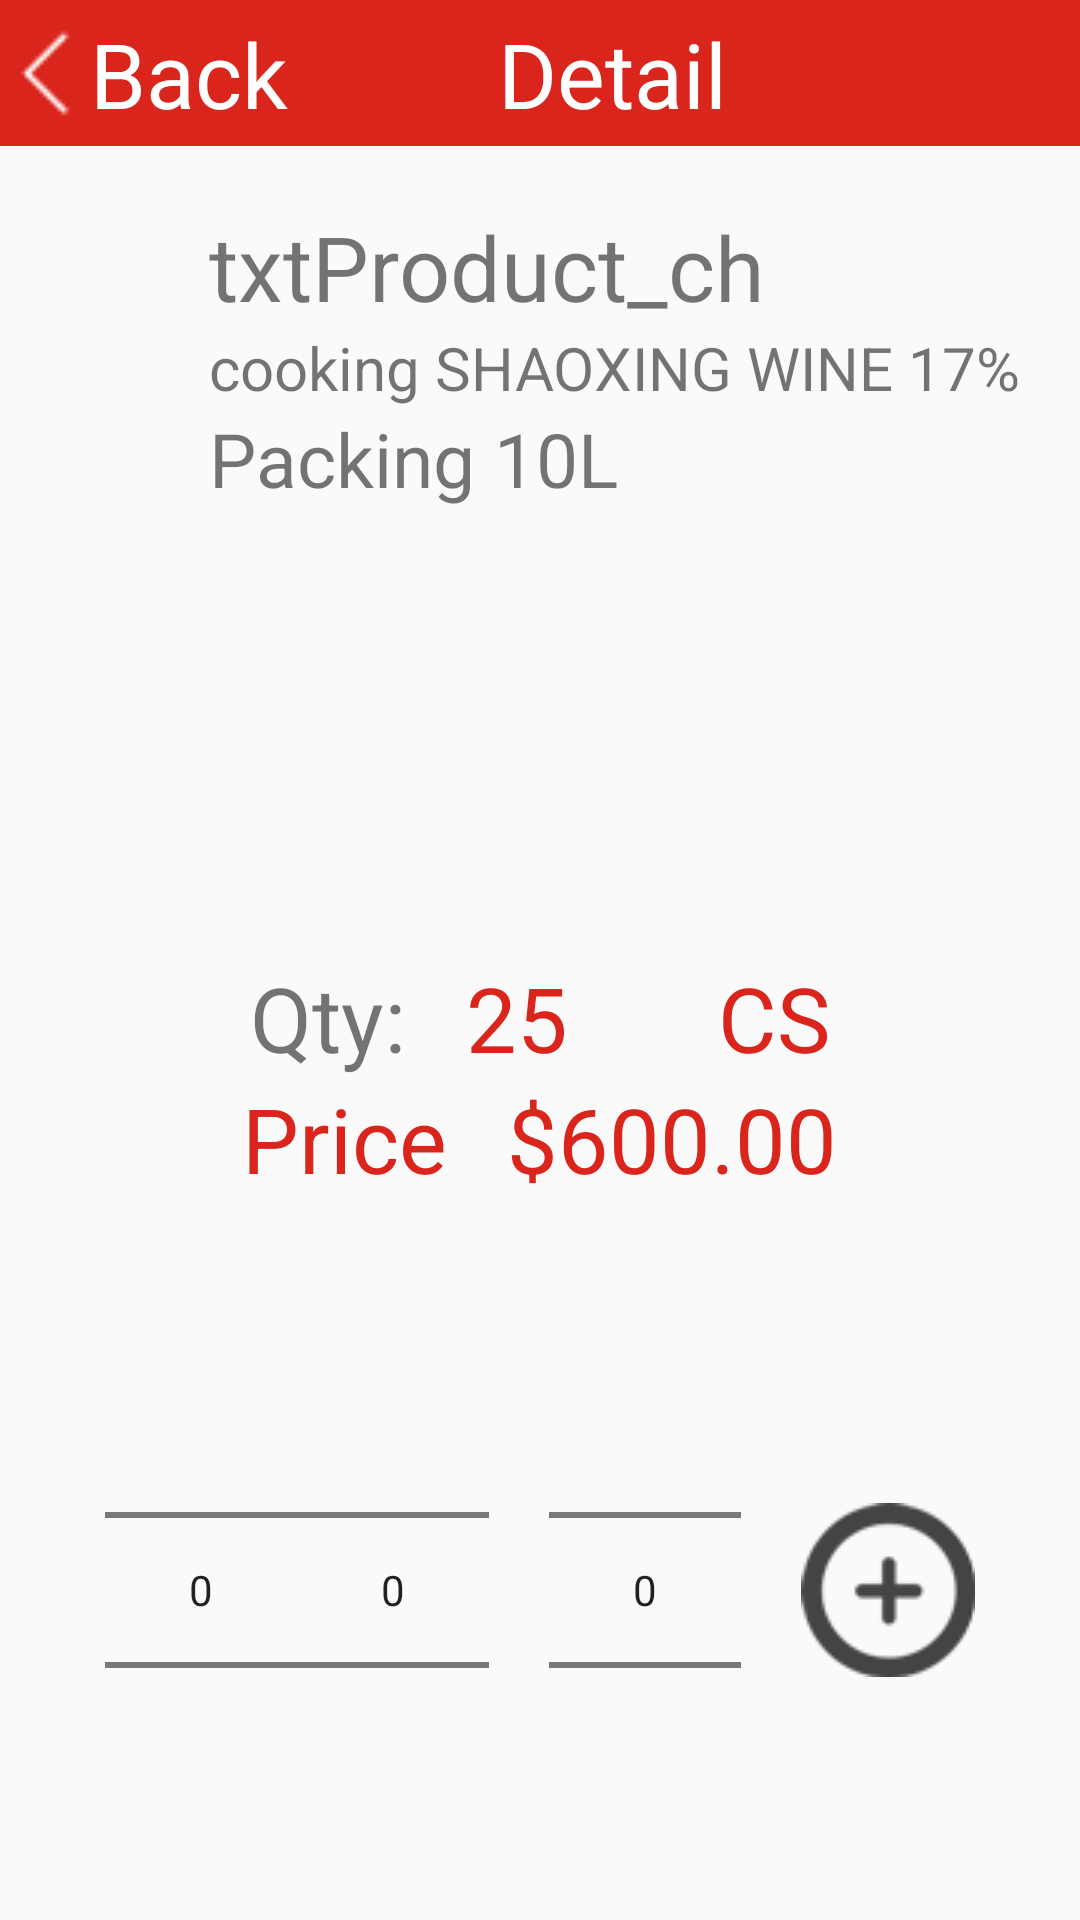

Icons on this 1080×1920 Android screen, each with its box as {"left": x1, "top": y1, "right": x2, "bottom": y2}:
plus: {"left": 801, "top": 1503, "right": 975, "bottom": 1677}
